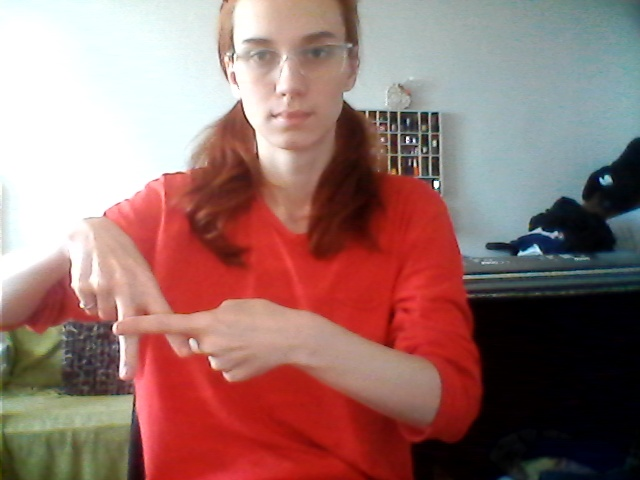a: (68, 267, 258, 399)
